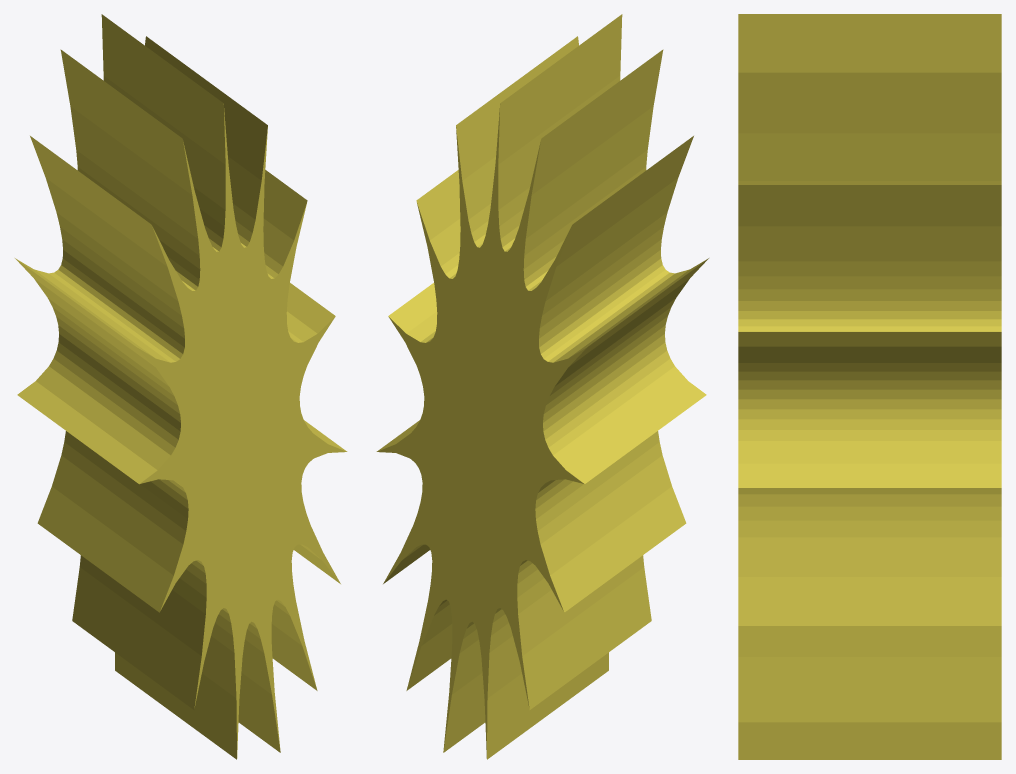
File: sun.glb
3 renders of one model, left to right at view 1: azimuth 30°, elevation 25°; view 2: azimuth 150°, elevation 25°; view 3: azimuth 270°, elevation 25°, orthographic. The views are drawn at different scales.
Visible parts, largest first — view 1: Mesh_Mesh_head_geo.001_lambert2SG.001; view 2: Mesh_Mesh_head_geo.001_lambert2SG.001; view 3: Mesh_Mesh_head_geo.001_lambert2SG.001.
Part boxes in pixels (x1,y1,x2,y2): Mesh_Mesh_head_geo.001_lambert2SG.001: (15, 14, 347, 759); Mesh_Mesh_head_geo.001_lambert2SG.001: (376, 14, 708, 759); Mesh_Mesh_head_geo.001_lambert2SG.001: (738, 14, 1001, 759).
Size of the model in its own units: 0.004 by 0.012 by 0.004.
